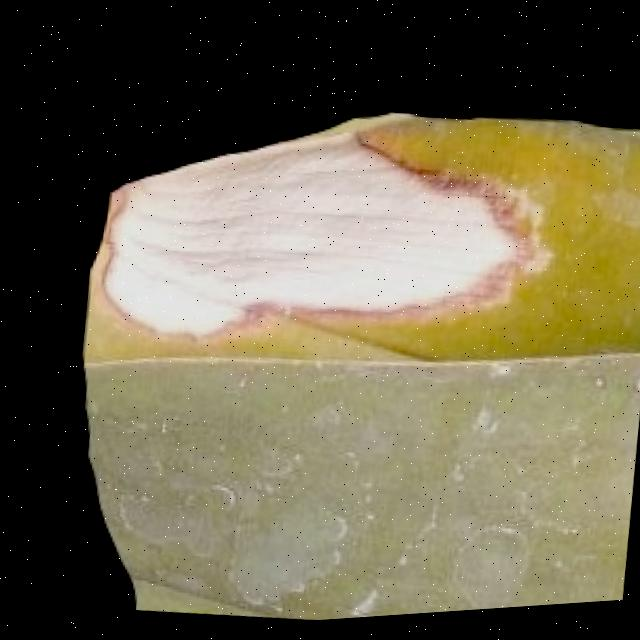mite: (130, 351, 640, 624), (438, 526, 534, 618), (583, 371, 640, 415), (586, 384, 608, 403), (628, 379, 640, 407)
